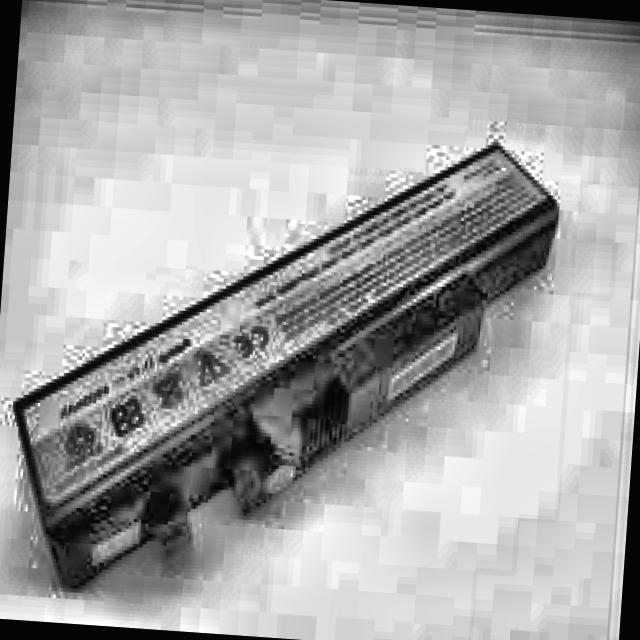Battery: (3, 113, 560, 610)
